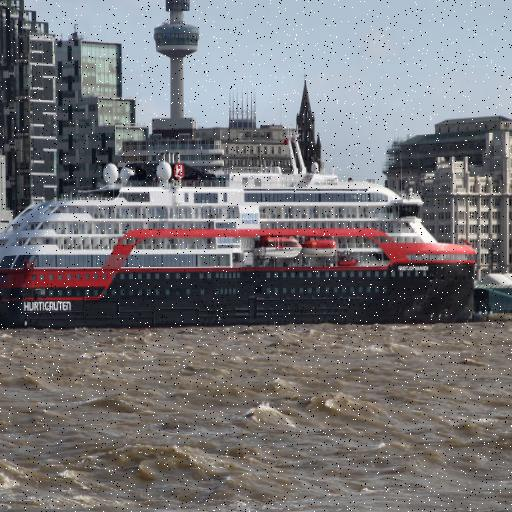cruises: (1, 149, 480, 335)
